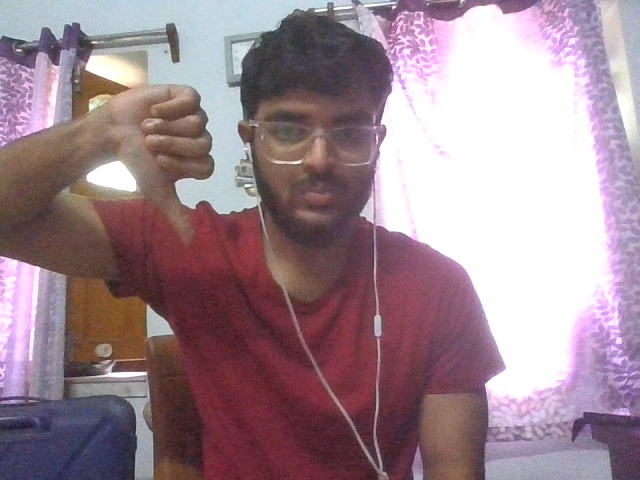ThumbsDown: (111, 84, 215, 246)
